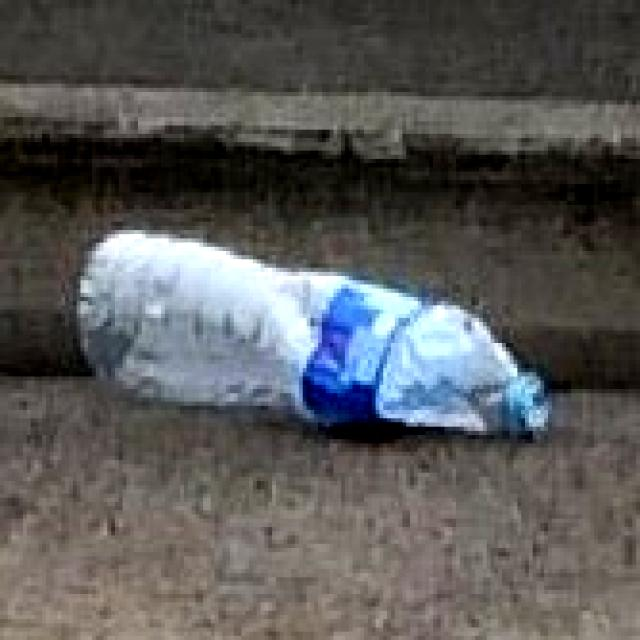Plastic: (64, 217, 559, 452)
